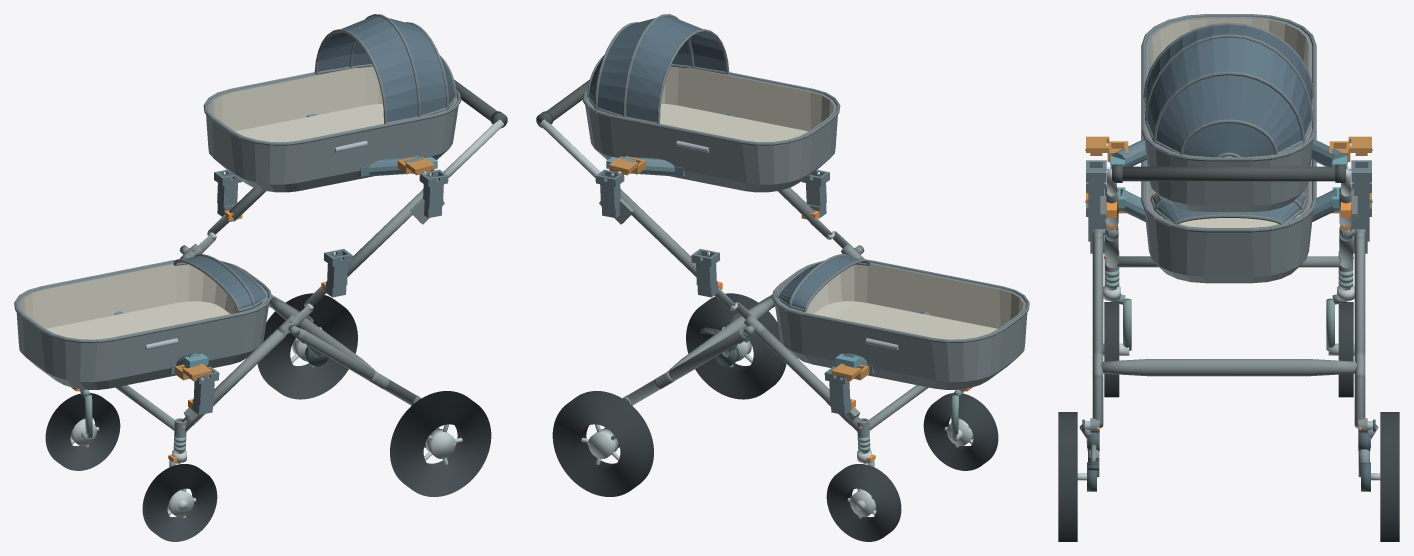
Rendered from D03_w650_state1_wheel_M.glb.
3 views of the same model, side by side, from view 1: azimuth 30°, elevation 25°; view 2: azimuth 150°, elevation 25°; view 3: azimuth 270°, elevation 25° (orthographic). The views are drawn at different scales.
Parts seen in each view (by area): view 1: D03_Upper, D03_Lower, RL_tire.008, RR_tire.008, FL_tire.008, FR_tire.008, V46_rear_leg_-1.009, main_lower_-1.009, main_upper_-1.009, Universal_Cabin_Receiver_M_-1, Universal_Cabin_Receiver_H_-1, V46_rearbar.009 (+7 smaller); view 2: D03_Upper, D03_Lower, RR_tire.008, RL_tire.008, FR_tire.008, FL_tire.008, V46_rear_leg_1.009, main_lower_1.009, main_upper_1.009, Universal_Cabin_Receiver_M_1, Universal_Cabin_Receiver_H_1, V46_rearbar.009 (+7 smaller); view 3: D03_Upper, D03_Lower, V46_rearbar.009, round_handle.008, RL_tire.008, RR_tire.008, V46_rear_leg_-1.009, V46_rear_leg_1.009, D03_Upper_Mount_H, FL_tire.008, FR_tire.008, D03_Lower_Mount_L (+7 smaller).
Boxes of the visible parts, x1=… form: D03_Upper: x1=203, y1=14, x2=461, y2=192; D03_Lower: x1=14, y1=254, x2=271, y2=389; RL_tire.008: x1=390, y1=391, x2=491, y2=496; RR_tire.008: x1=257, y1=293, x2=357, y2=399; FL_tire.008: x1=142, y1=464, x2=217, y2=541; FR_tire.008: x1=45, y1=393, x2=120, y2=470; V46_rear_leg_-1.009: x1=296, y1=329, x2=417, y2=405; main_lower_-1.009: x1=181, y1=329, x2=288, y2=431; main_upper_-1.009: x1=347, y1=189, x2=423, y2=276; Universal_Cabin_Receiver_M_-1: x1=324, y1=249, x2=352, y2=297; Universal_Cabin_Receiver_H_-1: x1=419, y1=169, x2=448, y2=218; V46_rearbar.009: x1=269, y1=297, x2=376, y2=371; D03_Upper: x1=582, y1=14, x2=840, y2=192; D03_Lower: x1=772, y1=254, x2=1029, y2=389; RR_tire.008: x1=552, y1=391, x2=653, y2=496; RL_tire.008: x1=686, y1=293, x2=786, y2=399; FR_tire.008: x1=826, y1=464, x2=901, y2=541; FL_tire.008: x1=923, y1=393, x2=998, y2=470; V46_rear_leg_1.009: x1=626, y1=329, x2=747, y2=405; main_lower_1.009: x1=755, y1=329, x2=862, y2=431; main_upper_1.009: x1=620, y1=189, x2=696, y2=276; Universal_Cabin_Receiver_M_1: x1=691, y1=249, x2=719, y2=297; Universal_Cabin_Receiver_H_1: x1=595, y1=169, x2=624, y2=218; V46_rearbar.009: x1=667, y1=297, x2=774, y2=371; D03_Upper: x1=1141, y1=14, x2=1316, y2=211; D03_Lower: x1=1141, y1=131, x2=1316, y2=283; V46_rearbar.009: x1=1101, y1=359, x2=1356, y2=376; round_handle.008: x1=1112, y1=166, x2=1345, y2=181; RL_tire.008: x1=1058, y1=412, x2=1077, y2=541; RR_tire.008: x1=1380, y1=412, x2=1399, y2=541; V46_rear_leg_-1.009: x1=1092, y1=236, x2=1103, y2=428; V46_rear_leg_1.009: x1=1354, y1=236, x2=1365, y2=428; D03_Upper_Mount_H: x1=1106, y1=139, x2=1351, y2=170; FL_tire.008: x1=1104, y1=302, x2=1119, y2=397; FR_tire.008: x1=1338, y1=302, x2=1353, y2=397; D03_Lower_Mount_L: x1=1117, y1=187, x2=1340, y2=221.
Bounding box in the file's own units: 1.38 × 1.3 × 0.7871.
